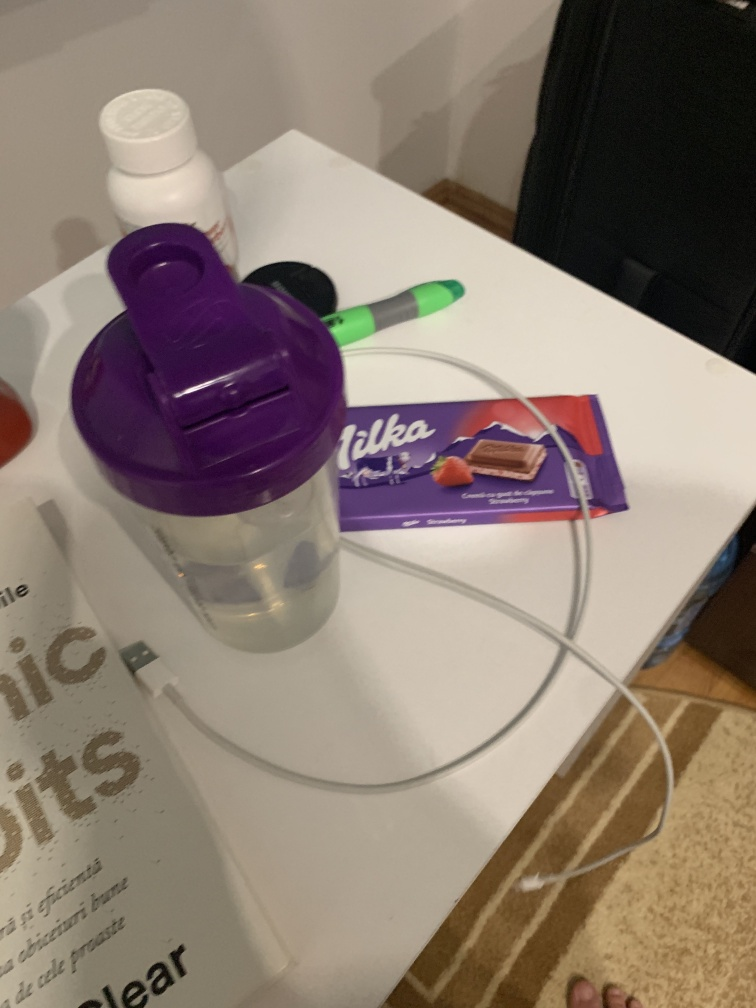milka: (327, 391, 629, 555)
